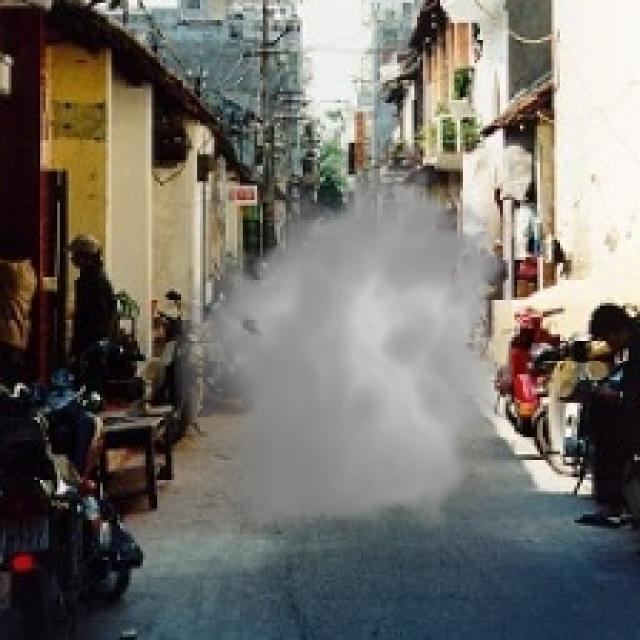smoke: (163, 146, 528, 548)
